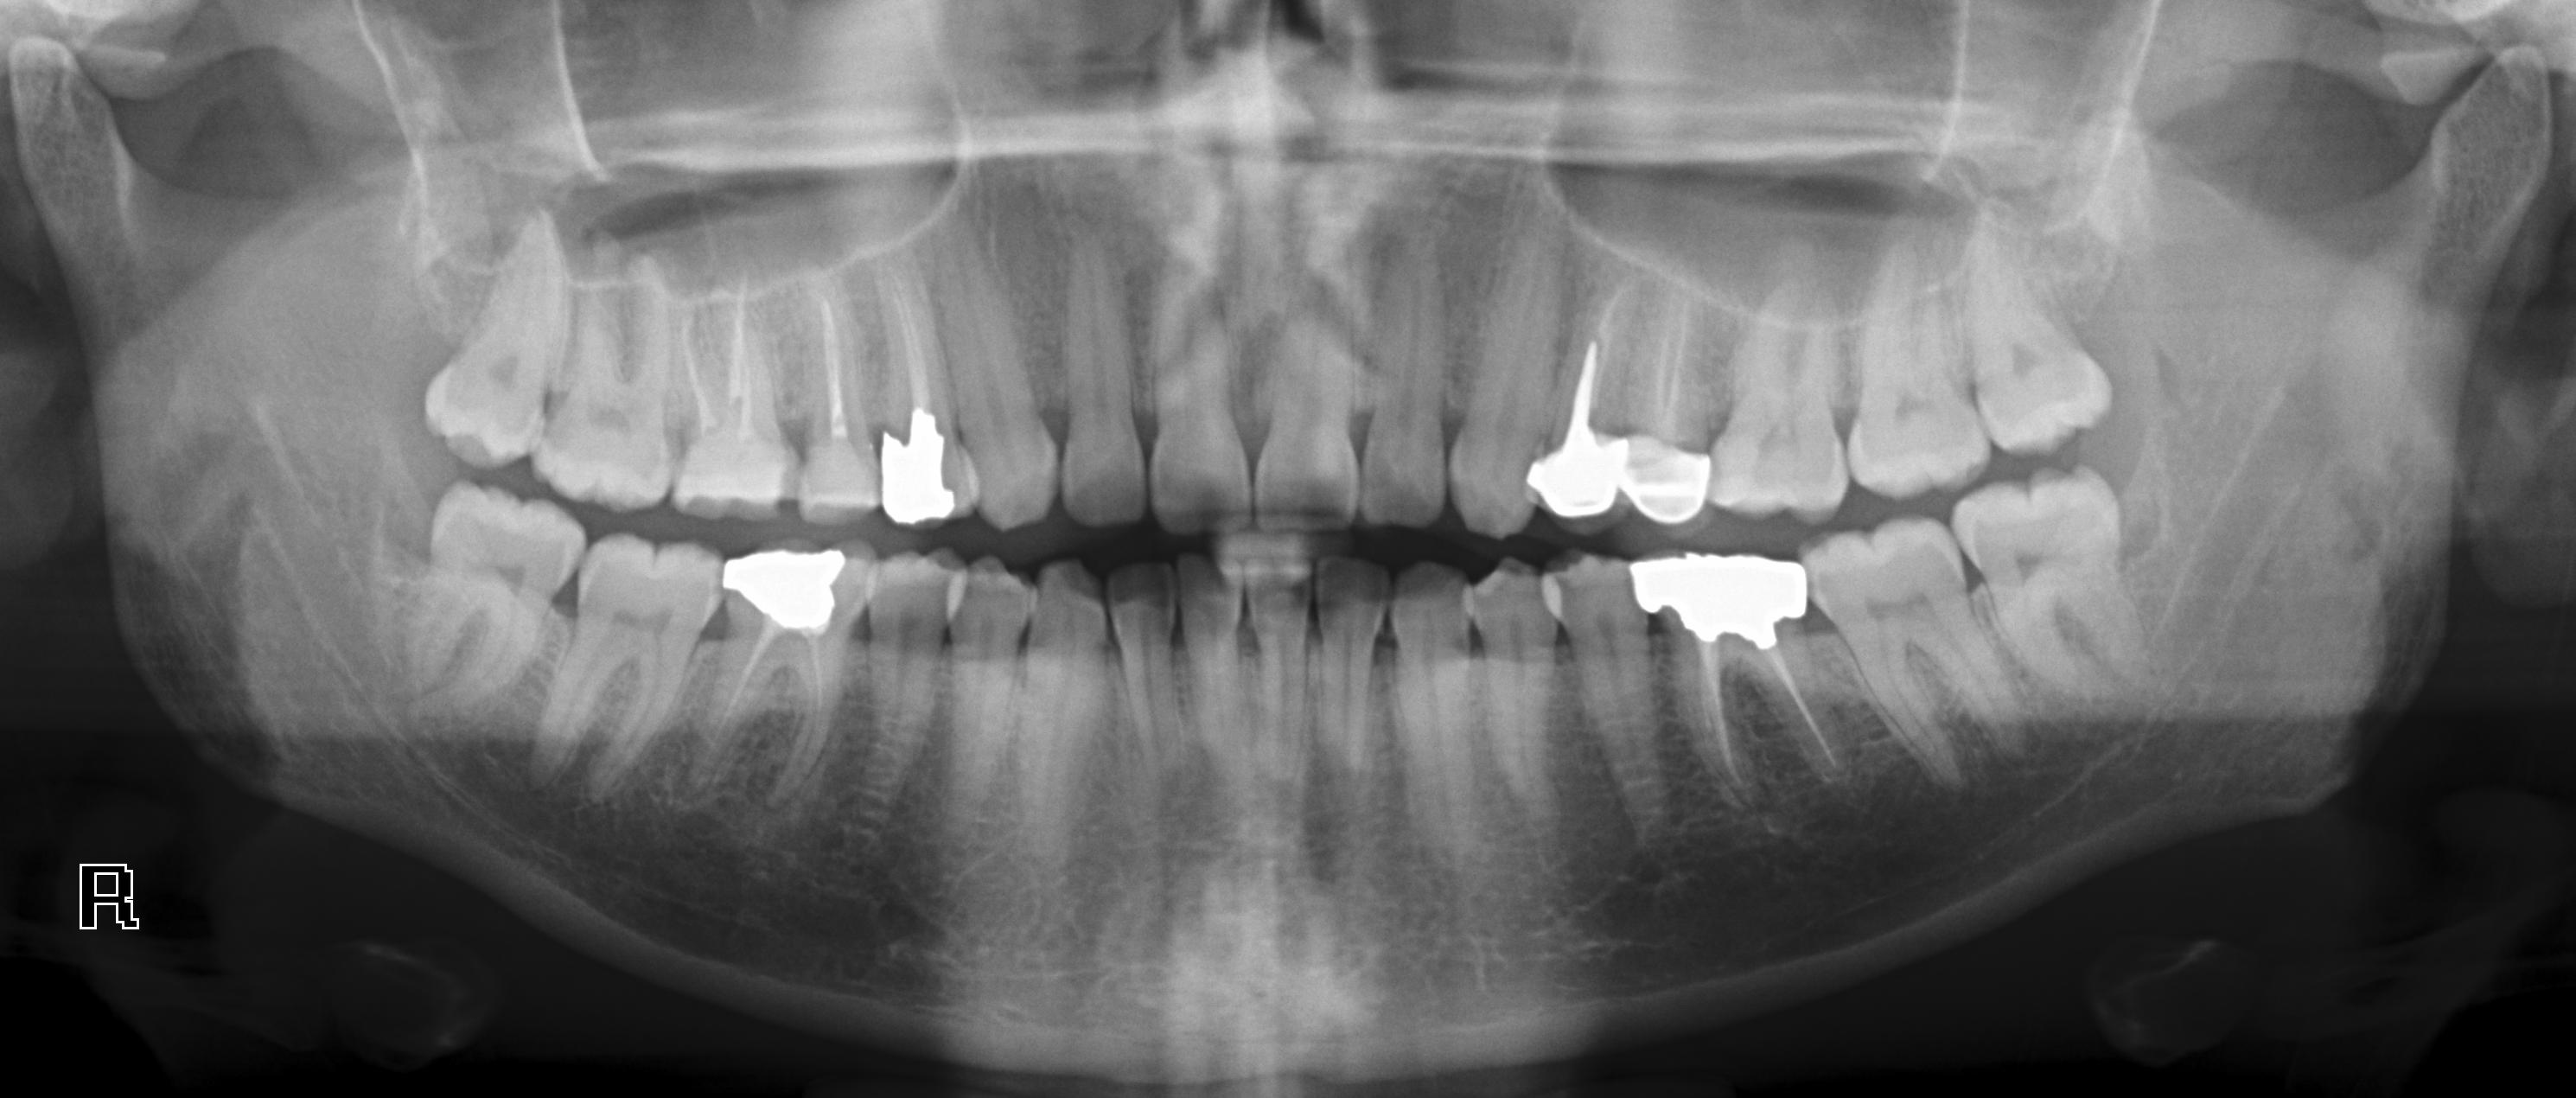Çürük: (1623, 545, 1814, 661), (713, 541, 875, 647), (1524, 408, 1636, 526), (871, 412, 972, 531)
